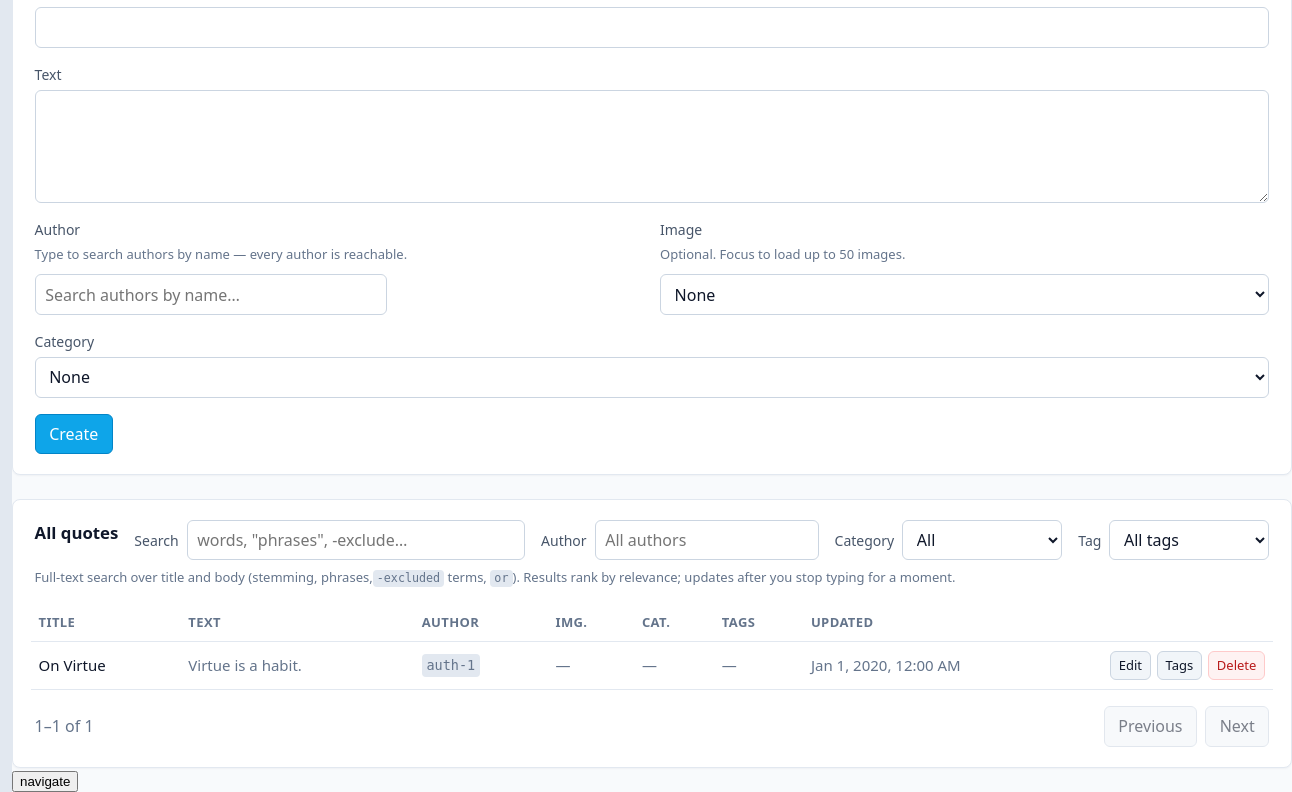
Test: QuotesPage › tag management › on a non-404 read failure, hides the empty state and the add picker
(page scrolled)
Expected: the link "On Virtue" is shown, [39, 655, 106, 675]
What coordinates should you click on to do the following:
click the button with aria-label "manage tags for on virtue"
I would click on:
 (1179, 666)
Its box is [1157, 651, 1202, 680].
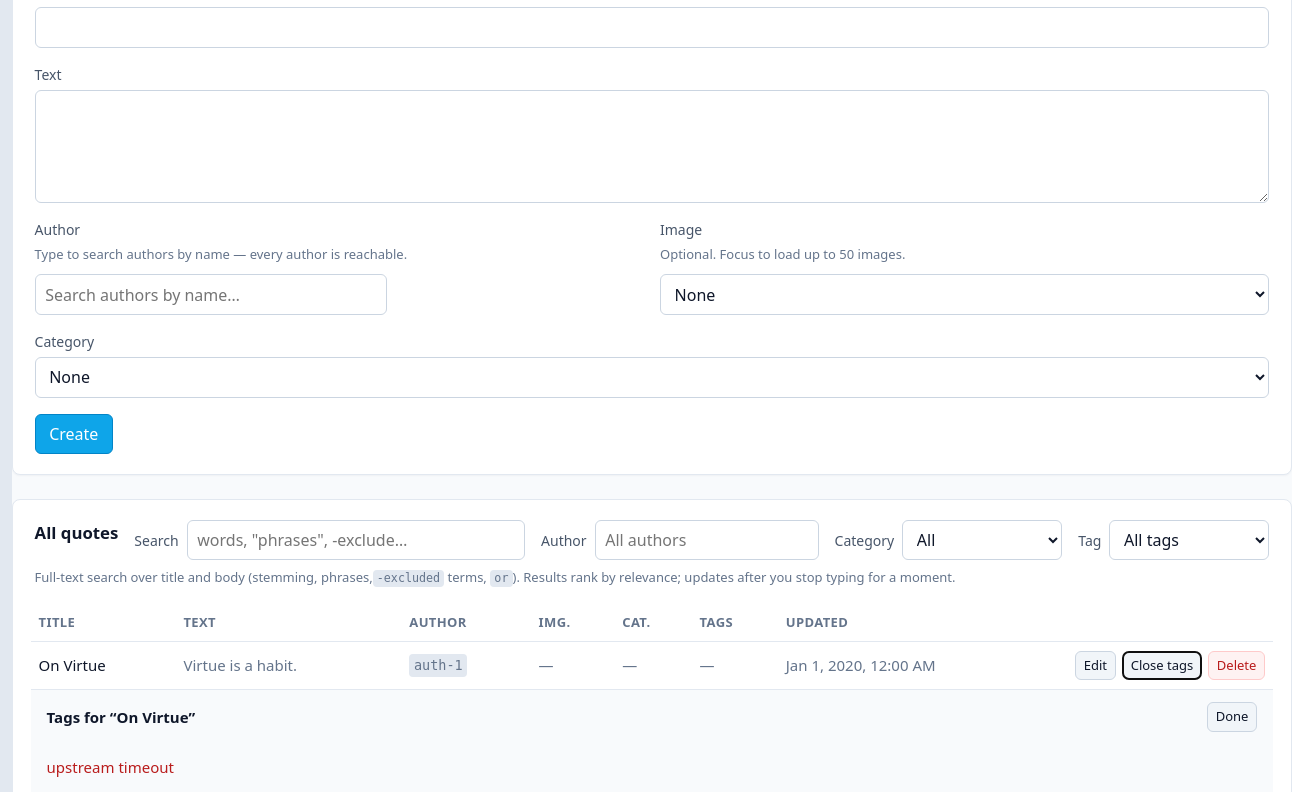
Expected: the text "upstream timeout" is shown, [47, 757, 174, 777]
